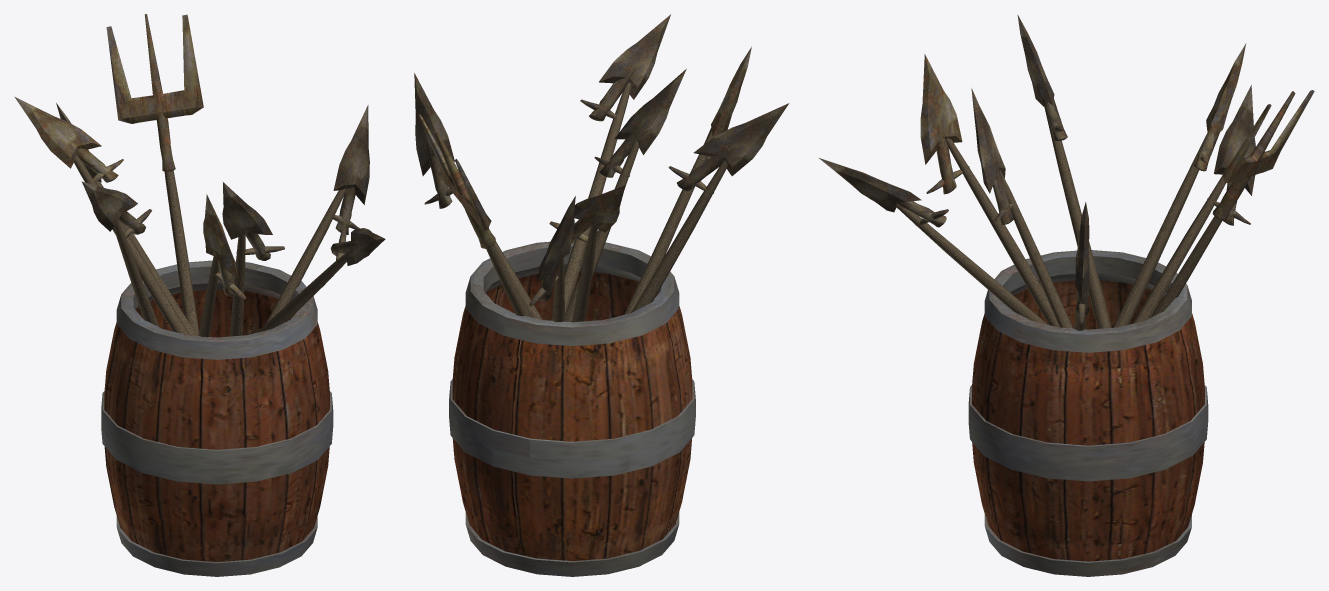
File: Barrel-O-Pointy-Things.FBX
3 views of the same model, side by side, from view 1: azimuth 30°, elevation 25°; view 2: azimuth 150°, elevation 25°; view 3: azimuth 270°, elevation 25° (orthographic). The views are drawn at different scales.
Parts seen in each view (by area): view 1: Barrel_open001, Box018, Star005, Star003, Star004, Handle004, Star002, Star007, Handle007, Handle005, Handle010, Star008 (+4 smaller); view 2: Barrel_open001, Star002, Star008, Star004, Box018, Star003, Handle010, Handle003, Star005, Star006, Handle009, Handle007 (+5 smaller); view 3: Barrel_open001, Box018, Star007, Handle009, Handle007, Star008, Star004, Handle003, Star006, Handle010, Handle008, Handle006 (+4 smaller).
Part boxes in pixels (<box>): Barrel_open001: <box>101,260,333,576</box>; Box018: <box>106,14,203,171</box>; Star005: <box>14,96,123,182</box>; Star003: <box>326,105,369,234</box>; Star004: <box>222,182,284,260</box>; Handle004: <box>164,170,199,335</box>; Star002: <box>81,181,151,242</box>; Star007: <box>203,194,246,299</box>; Handle007: <box>74,155,189,335</box>; Handle005: <box>265,188,346,324</box>; Handle010: <box>257,251,348,332</box>; Star008: <box>330,227,385,269</box>; Barrel_open001: <box>449,241,695,576</box>; Star002: <box>668,103,789,193</box>; Star008: <box>580,14,670,121</box>; Star004: <box>594,68,686,177</box>; Box018: <box>418,114,495,248</box>; Star003: <box>414,73,454,208</box>; Handle010: <box>551,82,631,320</box>; Handle003: <box>631,160,727,312</box>; Star005: <box>549,185,625,244</box>; Star006: <box>529,196,575,306</box>; Handle009: <box>624,129,716,314</box>; Handle007: <box>572,224,597,322</box>; Barrel_open001: <box>968,250,1208,576</box>; Box018: <box>1212,90,1314,221</box>; Star007: <box>920,54,969,194</box>; Handle009: <box>946,138,1058,327</box>; Handle007: <box>1113,132,1207,327</box>; Star008: <box>819,158,948,227</box>; Star004: <box>971,88,1013,224</box>; Handle003: <box>1044,106,1111,328</box>; Star006: <box>1207,85,1255,225</box>; Handle010: <box>895,204,1047,324</box>; Handle008: <box>1132,175,1225,323</box>; Handle006: <box>1000,170,1073,328</box>.
Bounding box in the file's own units: 388 × 514 × 504.
5 materials, 5 textured.
